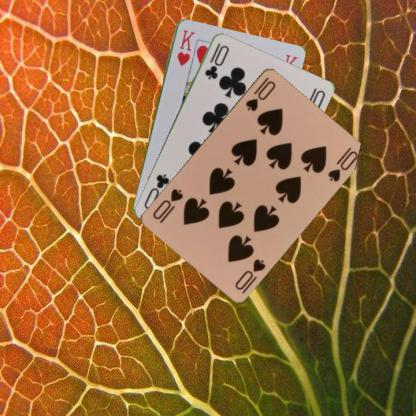10c: (202, 40, 231, 81)
10s: (242, 74, 276, 113), (232, 256, 267, 292)
Kh: (174, 27, 196, 67)
